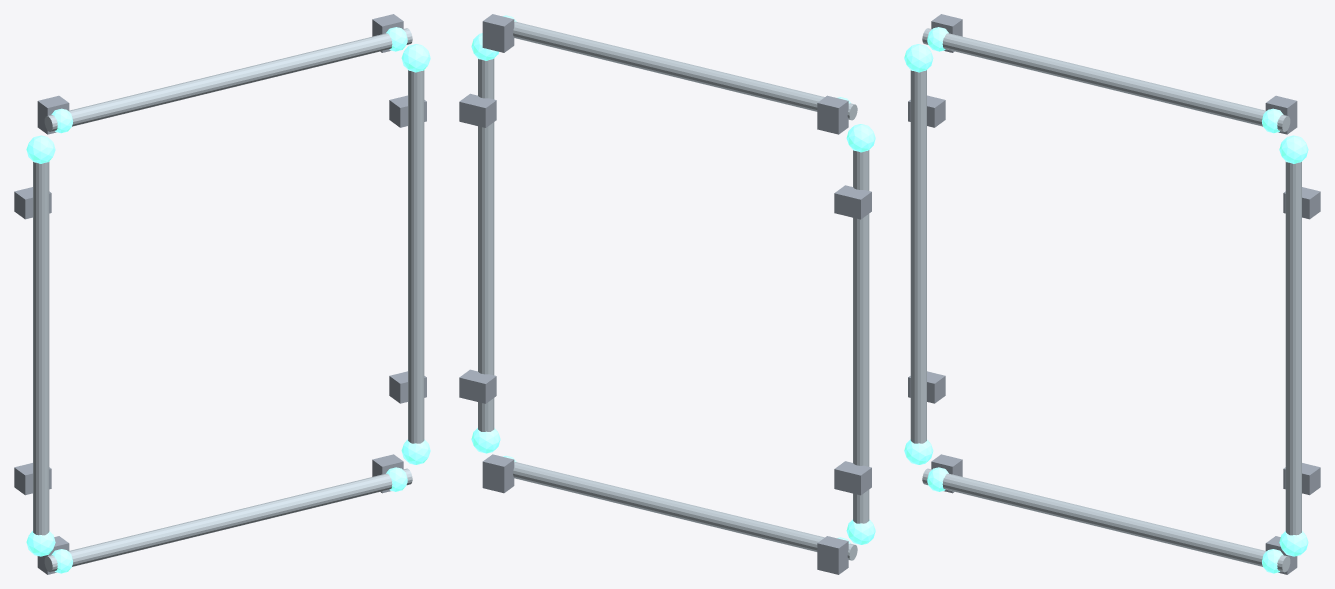
Rendered from sat_servicer_edge_rails.glb.
3 views of the same model, side by side, from view 1: azimuth 30°, elevation 25°; view 2: azimuth 150°, elevation 25°; view 3: azimuth 330°, elevation 25° (orthographic).
Visible parts, largest first — view 1: parallel_side_rail_port, parallel_side_rail_starboard, parallel_end_rail_y-0.83, parallel_end_rail_y0.83, world, end_x-0.74_y0.74, end_x0.74_y0.74, side_bracket_-0.74_-0.52, side_bracket_-0.74_0.52, side_bracket_0.74_-0.52, side_bracket_0.74_0.52, end_x-0.74_y-0.74 (+1 smaller); view 2: parallel_end_rail_y-0.83, parallel_end_rail_y0.83, parallel_side_rail_starboard, parallel_side_rail_port, world, side_bracket_-0.74_-0.52, side_bracket_-0.74_0.52, side_bracket_0.74_-0.52, side_bracket_0.74_0.52, end_x-0.74_y0.74, end_x-0.74_y-0.74, end_x0.74_y-0.74; view 3: parallel_side_rail_port, parallel_side_rail_starboard, parallel_end_rail_y-0.83, parallel_end_rail_y0.83, world, end_x-0.74_y0.74, end_x0.74_y0.74, side_bracket_-0.74_-0.52, side_bracket_0.74_-0.52, side_bracket_0.74_0.52, side_bracket_-0.74_0.52, end_x-0.74_y-0.74 (+1 smaller).
Boxes of the visible parts, x1,y1,x2,y2 form: parallel_side_rail_port: [33, 162, 49, 535]; parallel_side_rail_starboard: [408, 70, 424, 443]; parallel_end_rail_y-0.83: [44, 468, 412, 572]; parallel_end_rail_y0.83: [44, 28, 412, 131]; world: [37, 14, 407, 574]; end_x-0.74_y0.74: [26, 135, 55, 163]; end_x0.74_y0.74: [401, 44, 430, 72]; side_bracket_-0.74_-0.52: [14, 463, 51, 495]; side_bracket_-0.74_0.52: [14, 187, 51, 219]; side_bracket_0.74_-0.52: [389, 371, 426, 403]; side_bracket_0.74_0.52: [389, 95, 426, 127]; end_x-0.74_y-0.74: [26, 531, 55, 556]; parallel_end_rail_y-0.83: [513, 462, 857, 560]; parallel_end_rail_y0.83: [513, 21, 857, 120]; parallel_side_rail_starboard: [478, 58, 494, 431]; parallel_side_rail_port: [853, 150, 869, 523]; world: [482, 14, 850, 574]; side_bracket_-0.74_-0.52: [834, 461, 871, 495]; side_bracket_-0.74_0.52: [834, 185, 871, 219]; side_bracket_0.74_-0.52: [459, 369, 496, 403]; side_bracket_0.74_0.52: [459, 93, 496, 127]; end_x-0.74_y0.74: [846, 124, 875, 152]; end_x-0.74_y-0.74: [846, 519, 875, 544]; end_x0.74_y-0.74: [471, 428, 500, 453]; parallel_side_rail_port: [910, 70, 926, 443]; parallel_side_rail_starboard: [1285, 162, 1301, 535]; parallel_end_rail_y-0.83: [922, 468, 1290, 572]; parallel_end_rail_y0.83: [922, 28, 1290, 131]; world: [927, 14, 1297, 574]; end_x-0.74_y0.74: [904, 44, 933, 72]; end_x0.74_y0.74: [1279, 135, 1308, 163]; side_bracket_-0.74_-0.52: [908, 371, 945, 403]; side_bracket_0.74_-0.52: [1283, 463, 1320, 495]; side_bracket_0.74_0.52: [1283, 187, 1320, 219]; side_bracket_-0.74_0.52: [908, 95, 945, 127]; end_x-0.74_y-0.74: [904, 439, 933, 464].
Size of the model in its own units: 1.58 by 1.76 by 0.1425.
